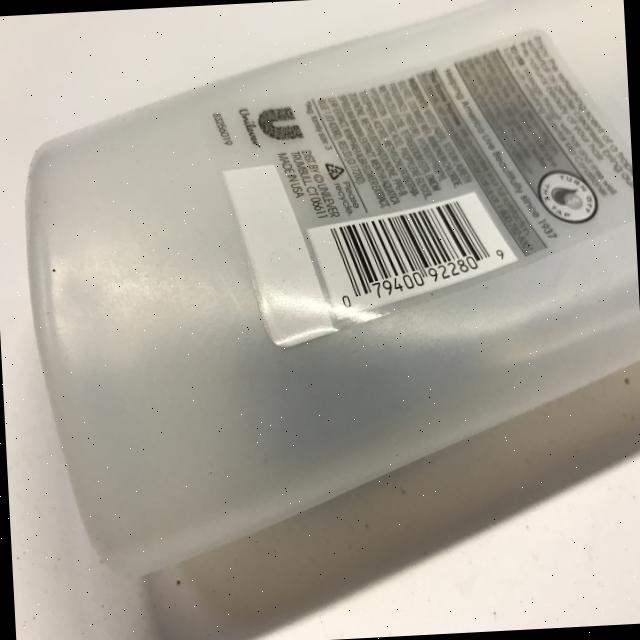plastic: (13, 0, 640, 585)
